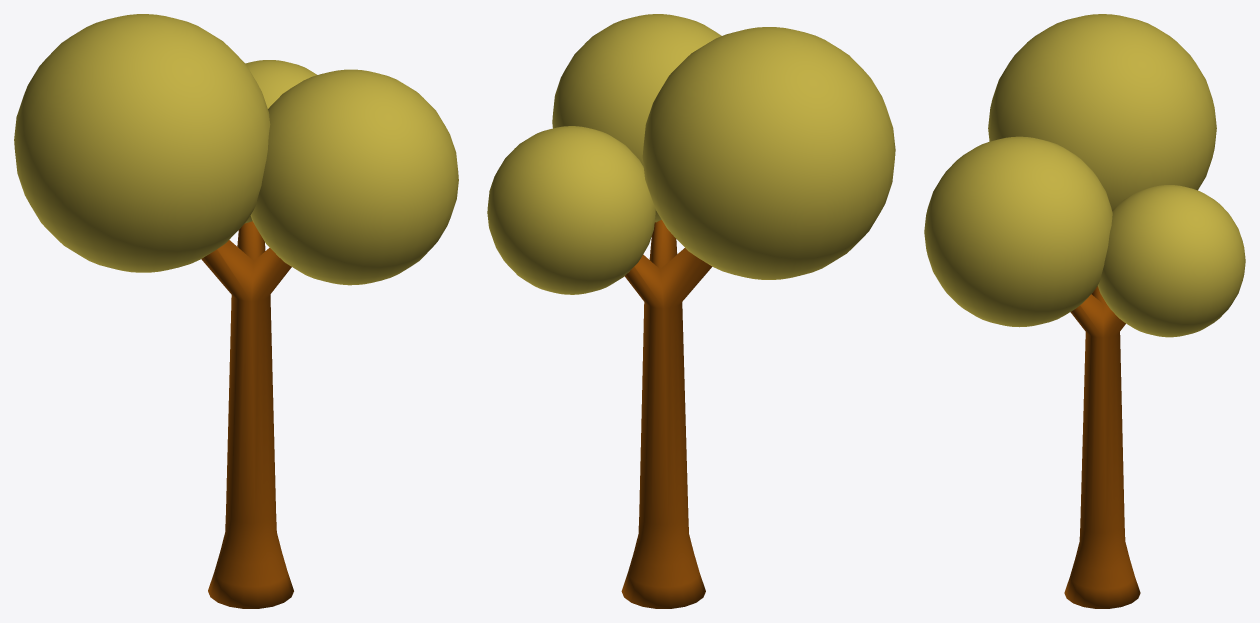
Rendered from OakTreeYellow.gltf.
3 renders of one model, left to right at view 1: azimuth 30°, elevation 25°; view 2: azimuth 150°, elevation 25°; view 3: azimuth 270°, elevation 25°, orthographic. The views are drawn at different scales.
Parts seen in each view (by area): view 1: Cylinder.007; view 2: Cylinder.007; view 3: Cylinder.007.
Part boxes in pixels (bbox=[...]): Cylinder.007: bbox=[14, 14, 458, 608]; Cylinder.007: bbox=[487, 14, 895, 608]; Cylinder.007: bbox=[924, 14, 1245, 608].
Bounding box in the file's own units: 9.8 × 15.11 × 8.43.
